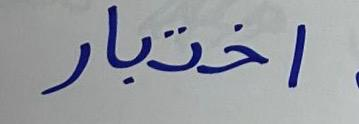alef: (101, 3, 120, 72)
khah: (207, 15, 275, 83)
reh: (34, 33, 97, 98), (285, 18, 308, 92)
teh: (154, 16, 203, 75)
yeh: (123, 32, 152, 89)
